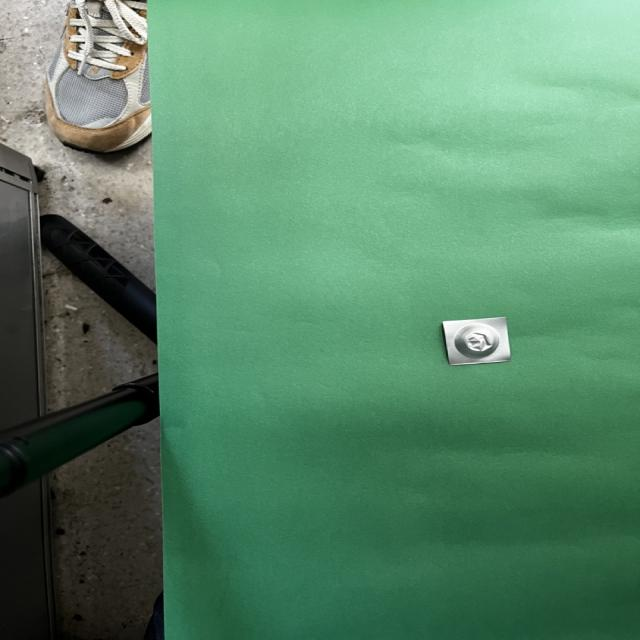Other Objects: (442, 318, 510, 364)
